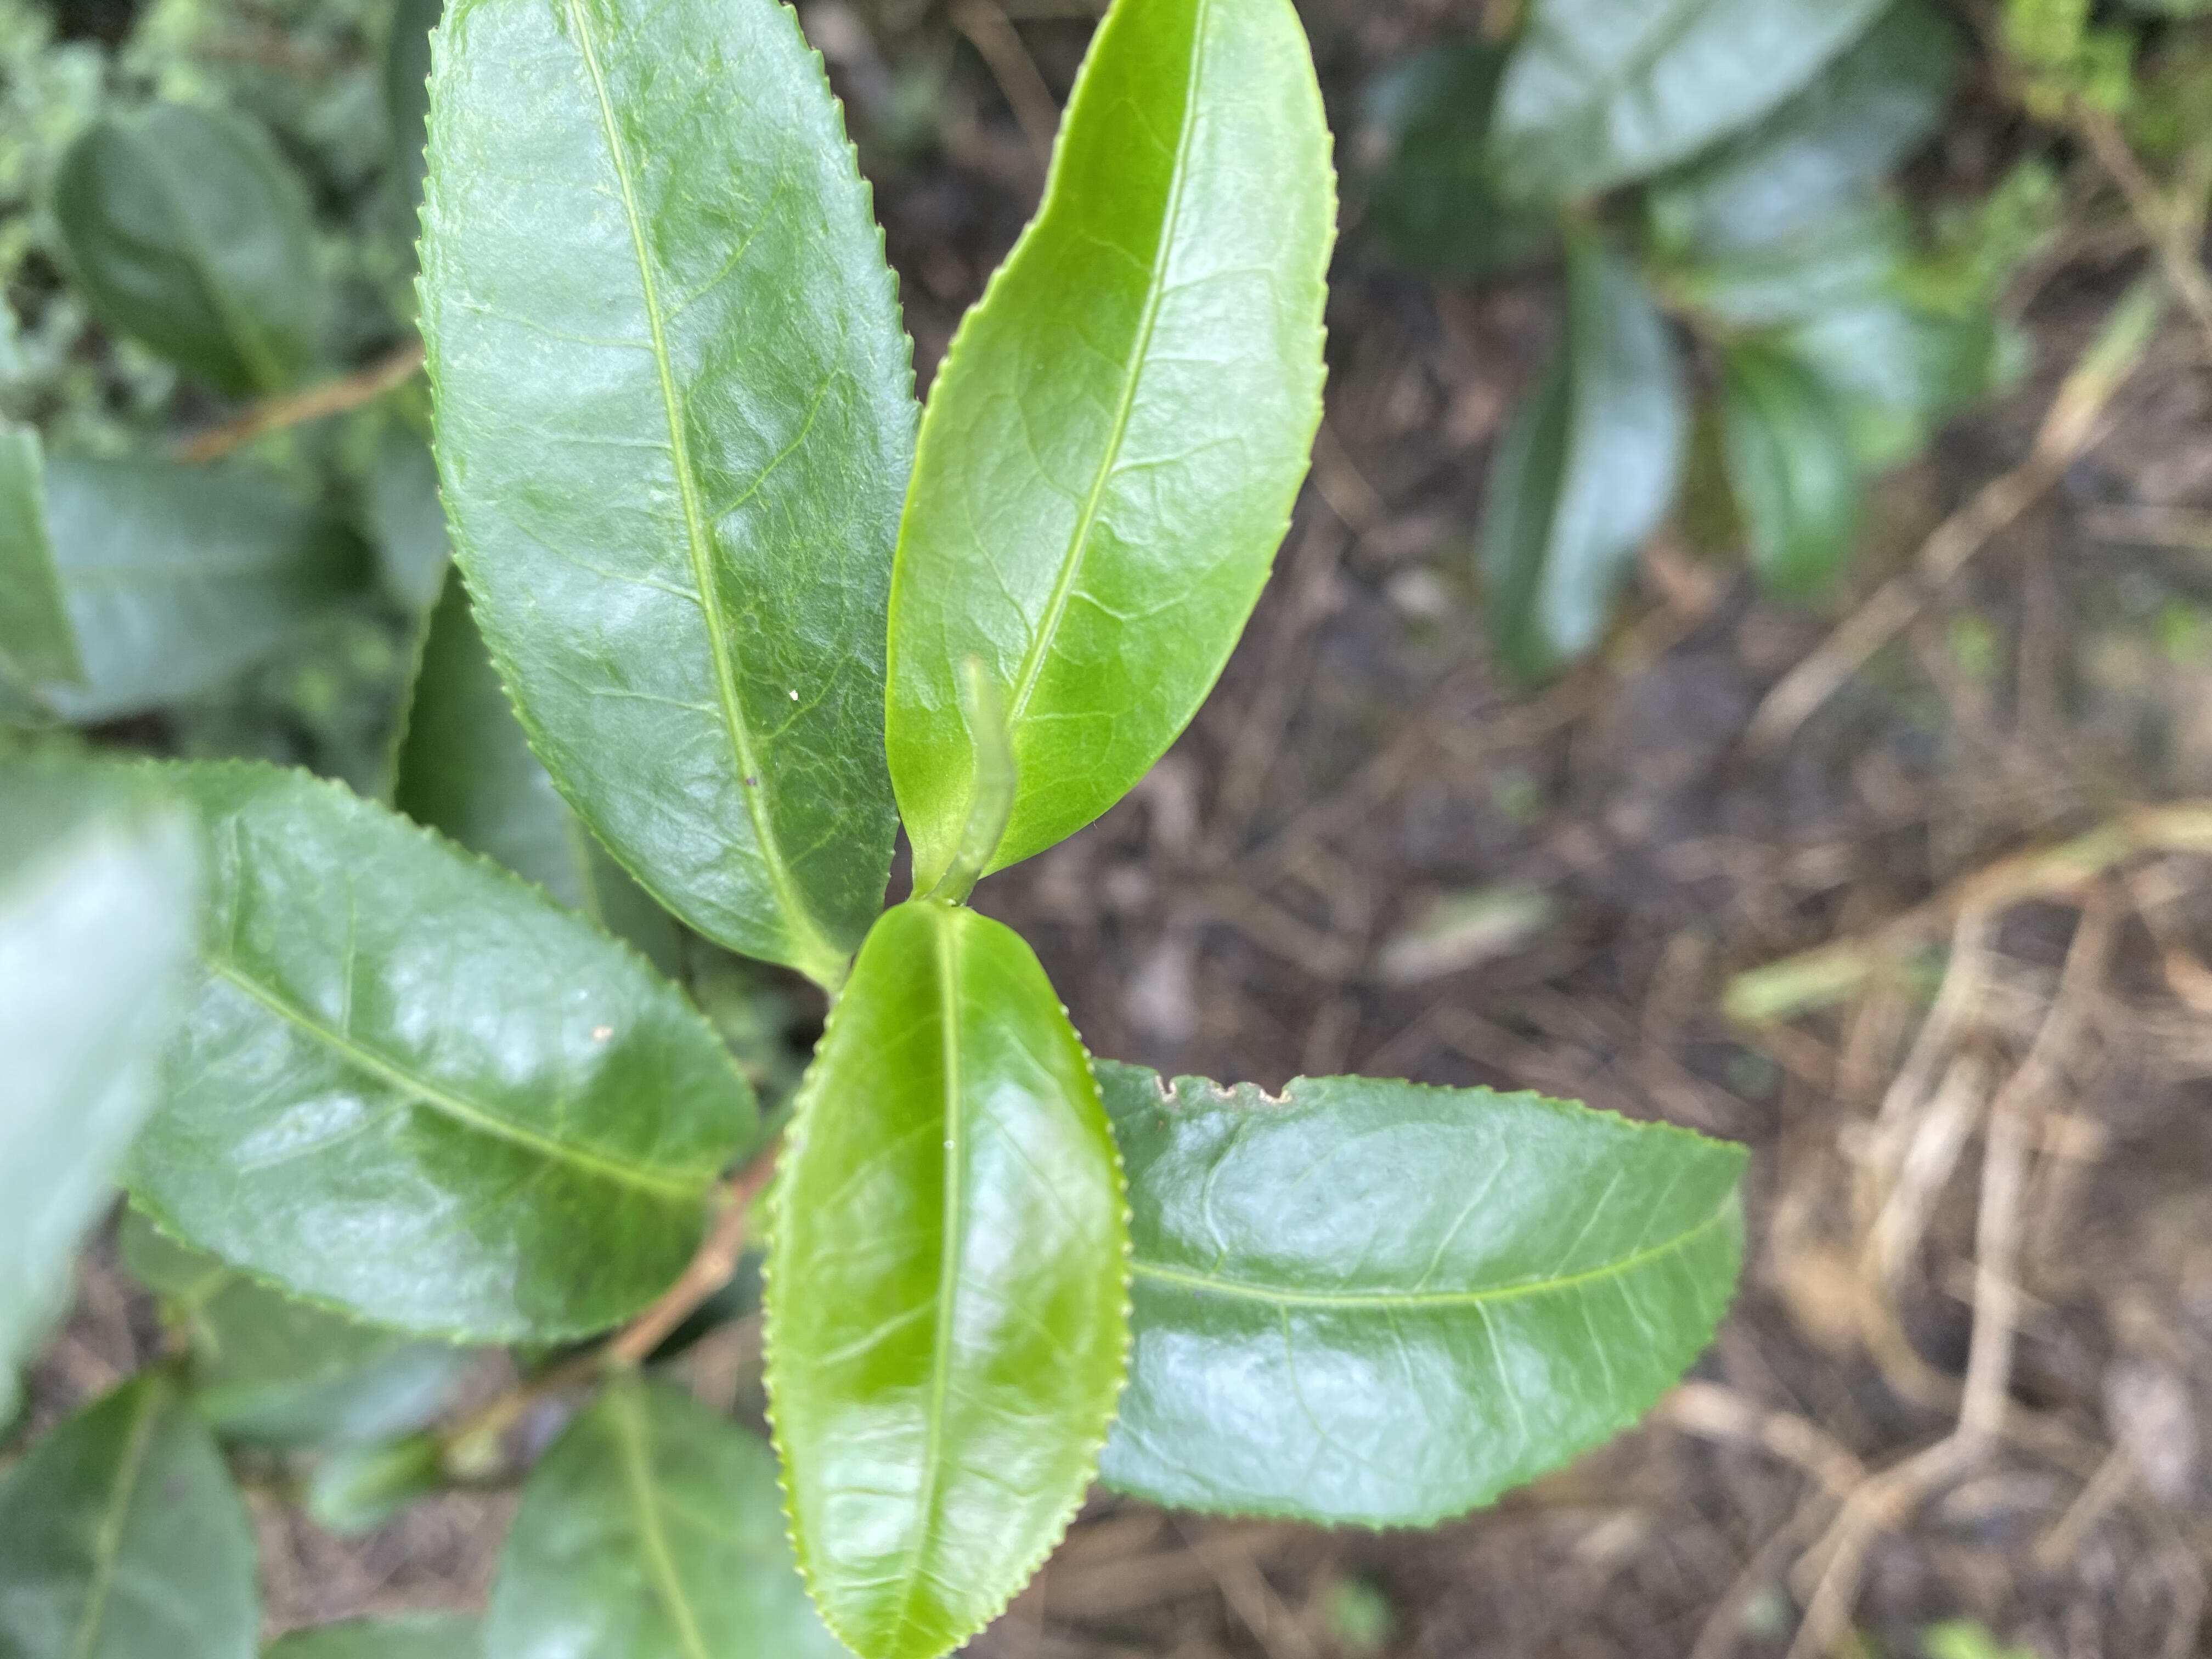chihuo_high: (1092, 1051, 1754, 1534)
healthy: (402, 2, 921, 969), (880, 2, 1341, 892), (759, 899, 1134, 1654)
